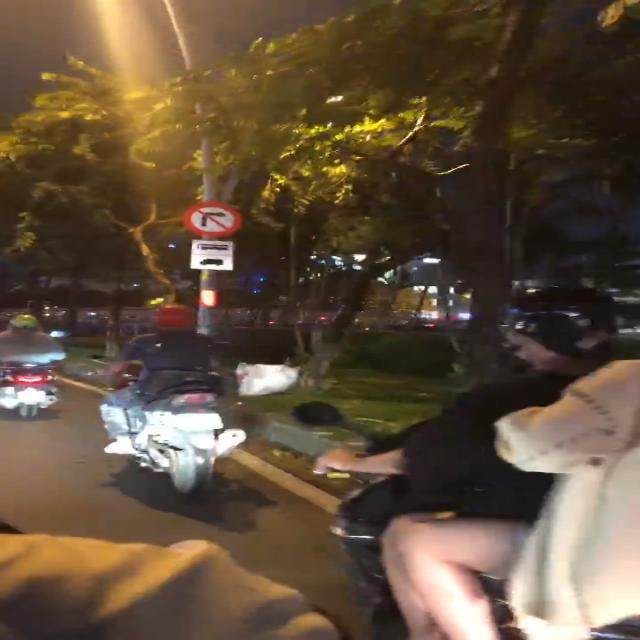Bien bao cam re phai: (185, 198, 243, 237)
